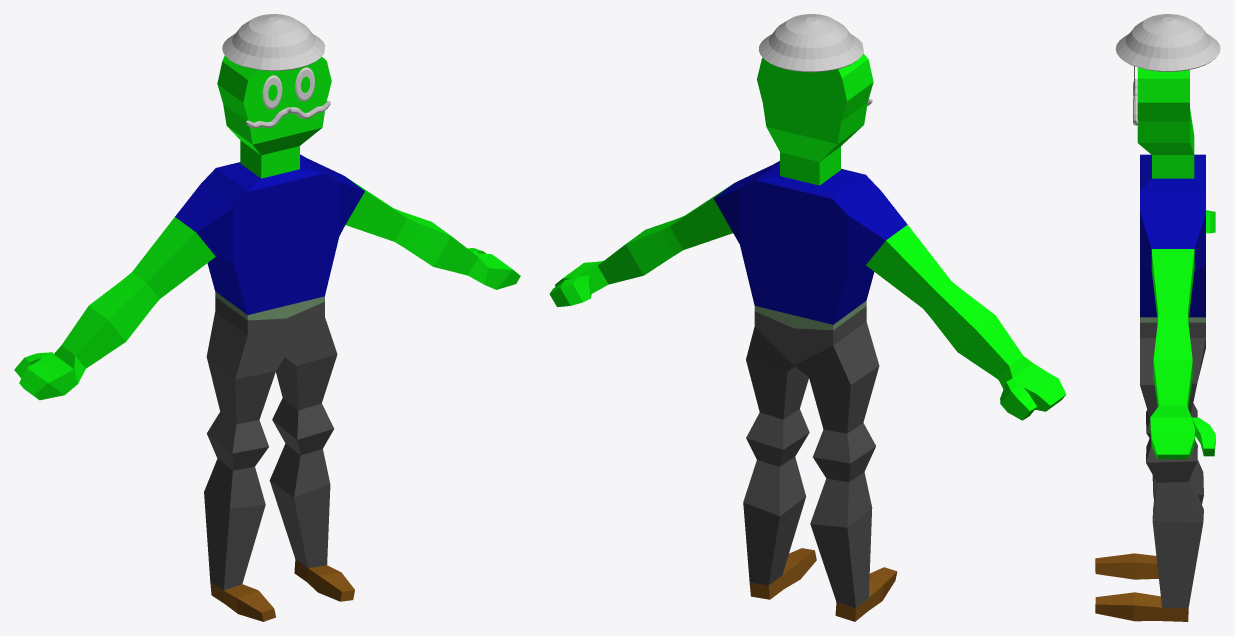
File: Carlos.fbx
The picture shows the model from 3 angles, left to right: view 1: azimuth 30°, elevation 25°; view 2: azimuth 150°, elevation 25°; view 3: azimuth 270°, elevation 25°; orthographic projection. The views are drawn at different scales.
Visible parts, largest first — view 1: Cube, Circle.001, Circle; view 2: Cube, Circle.001; view 3: Cube, Circle.001, Circle.002.
Part boxes in pixels (<box>): Cube: <box>14,55,520,621</box>; Circle.001: <box>222,14,325,70</box>; Circle: <box>262,67,314,109</box>; Cube: <box>549,53,1066,621</box>; Circle.001: <box>758,14,863,72</box>; Cube: <box>1095,67,1215,621</box>; Circle.001: <box>1115,14,1220,71</box>; Circle.002: <box>1132,79,1138,125</box>.
Size of the model in its own units: 917 by 1029 by 202.
